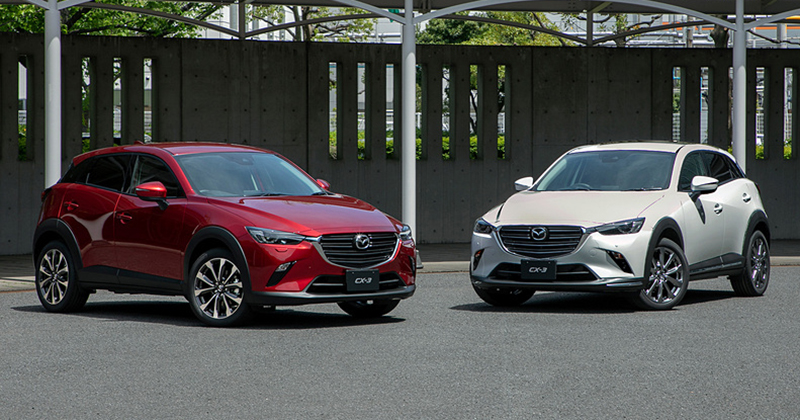pickup: (35, 140, 419, 325), (469, 139, 771, 308)
